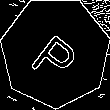P_NE: (26, 21, 85, 83)
